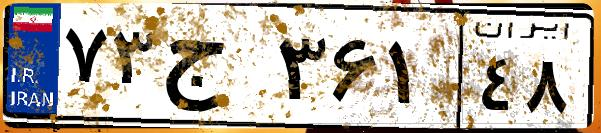1: (385, 28, 445, 110)
3: (270, 28, 330, 110), (110, 28, 158, 98)
4: (475, 38, 525, 113)
6: (330, 28, 385, 110)
7: (57, 26, 110, 100)
8: (525, 38, 570, 115)
ج: (158, 20, 270, 120)
